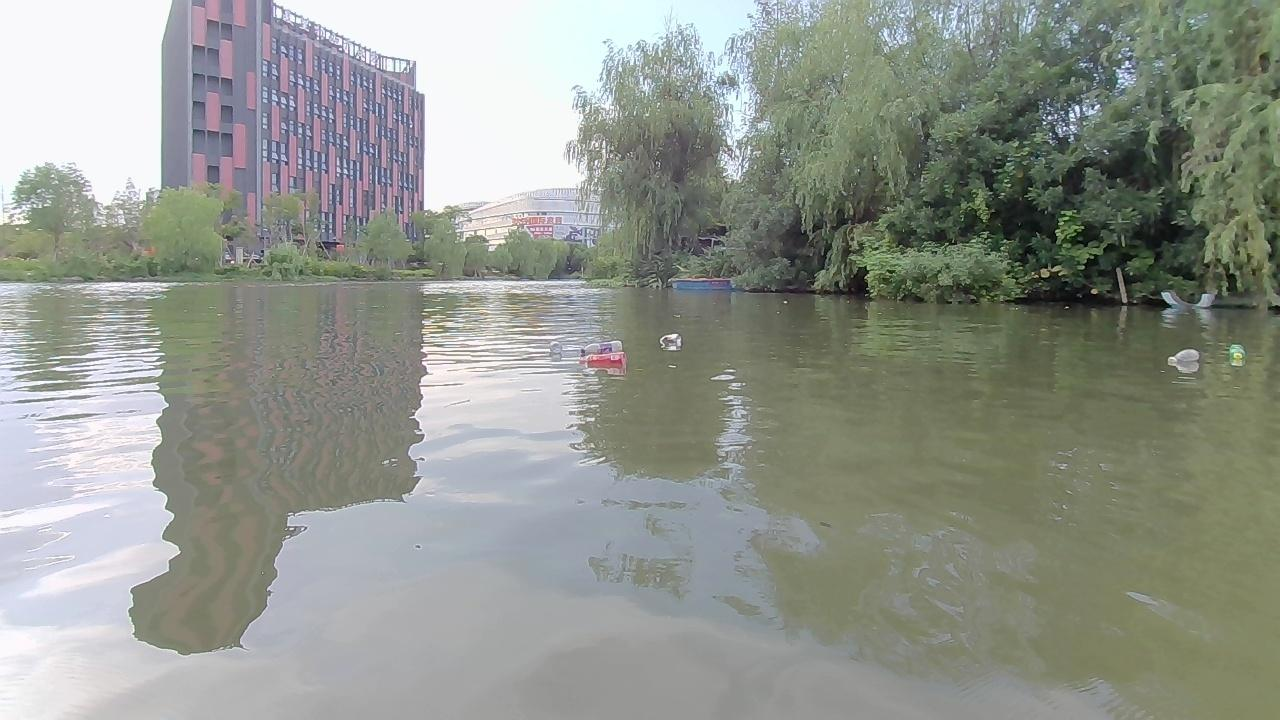bottle: (1165, 339, 1205, 372), (578, 352, 625, 367), (579, 340, 620, 356), (656, 330, 681, 347), (1226, 341, 1243, 362), (546, 338, 561, 359)
